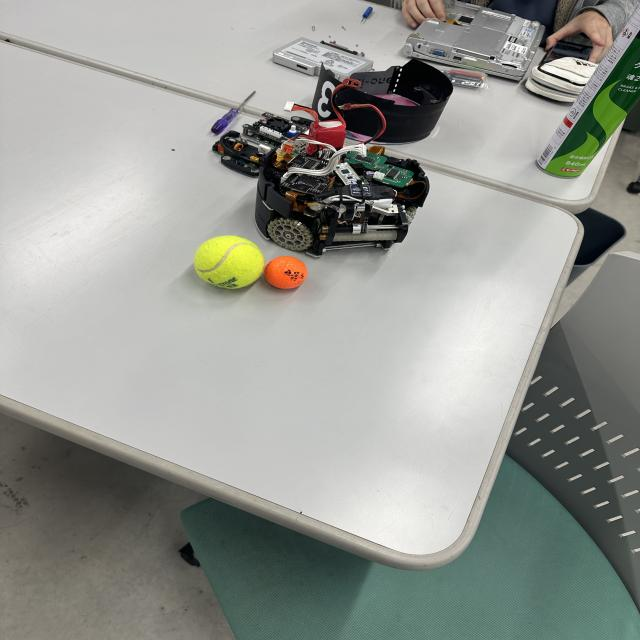ball: (262, 255, 309, 291)
